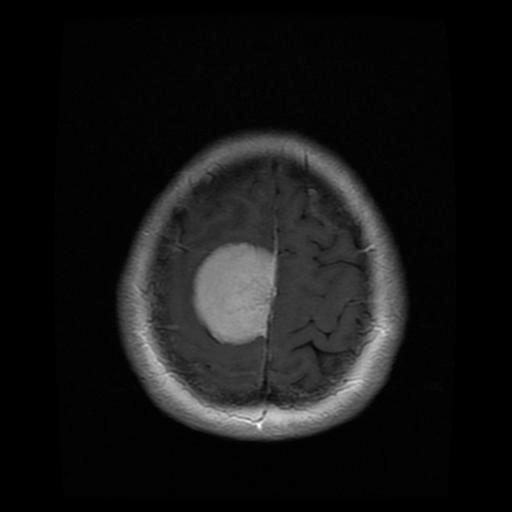Tumour-Pituitary: (186, 227, 288, 365)
